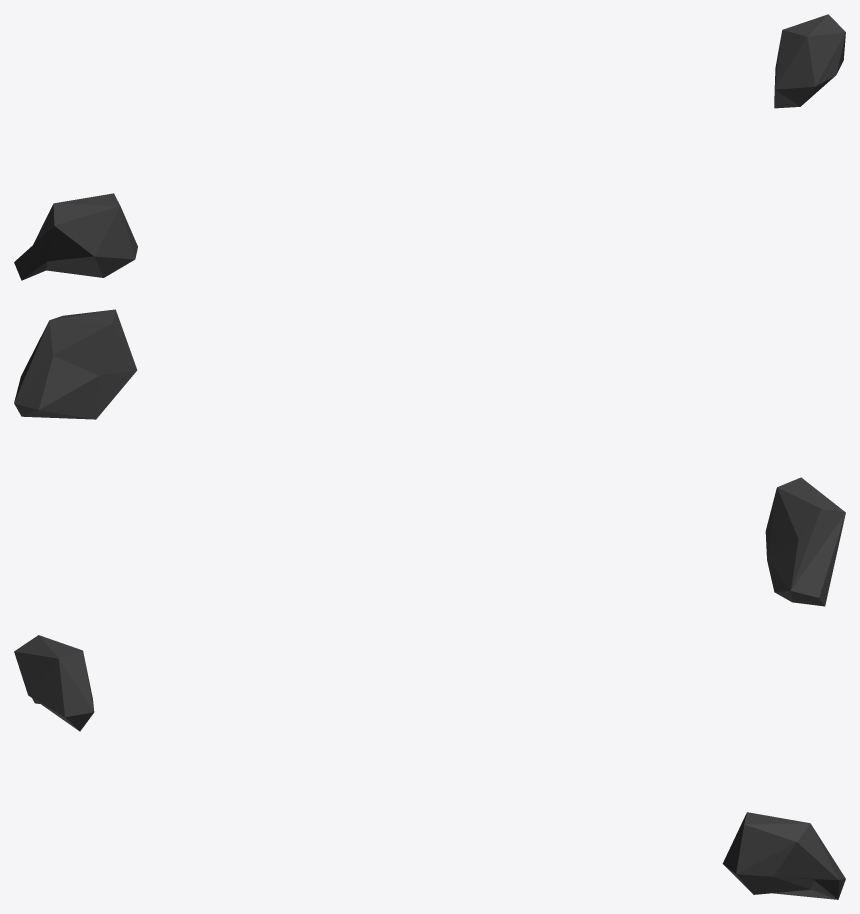
File: Ulnar_carpal.glb
The picture shows the model from 3 angles, top to bottom: view 1: azimuth 30°, elevation 25°; view 2: azimuth 150°, elevation 25°; view 3: azimuth 330°, elevation 25°; orthographic projection.
Visible parts, largest first — view 1: Ulnar_carpal; view 2: Ulnar_carpal; view 3: Ulnar_carpal.
Part boxes in pixels (x1=…): Ulnar_carpal: x1=14, y1=14, x2=845, y2=280; Ulnar_carpal: x1=14, y1=309, x2=845, y2=606; Ulnar_carpal: x1=14, y1=635, x2=845, y2=899.
Bounding box in the file's own units: 0.00409 × 0.000439 × 0.000495.
Materials: 1 (1 with a texture image).
